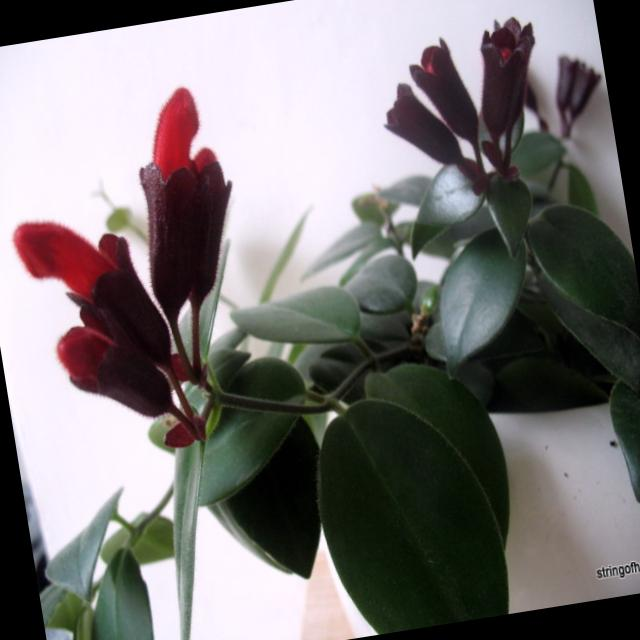Lipstick-Plant: (0, 83, 286, 475), (363, 0, 624, 270)
